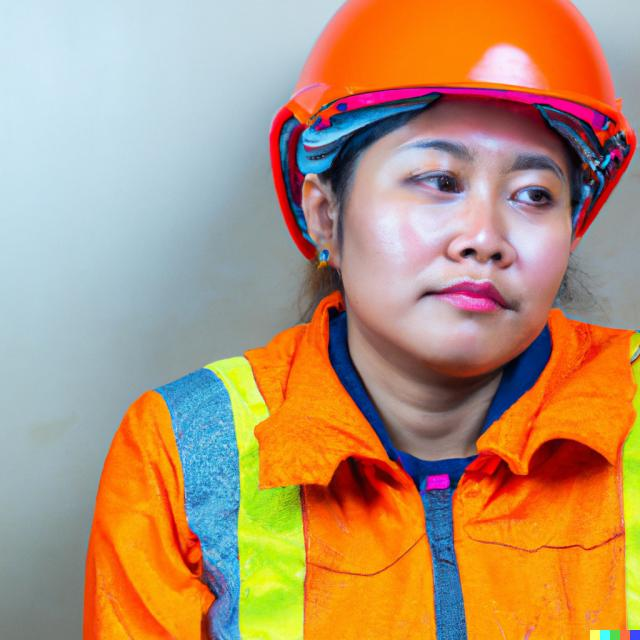Reflective-Jacket: (70, 319, 640, 634)
Safety-Helmet: (278, 4, 636, 164)
